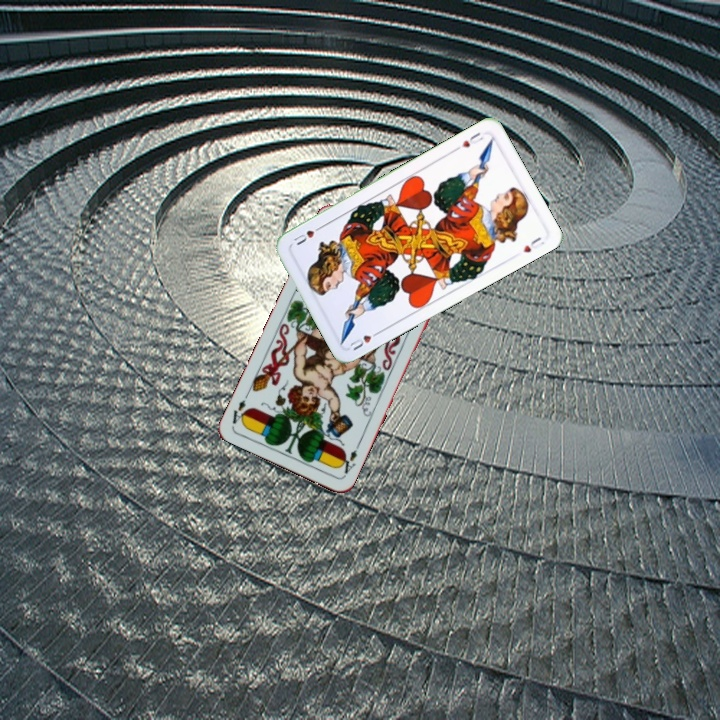EA: (335, 440, 362, 479)
HU: (346, 327, 383, 353), (451, 128, 486, 153)
